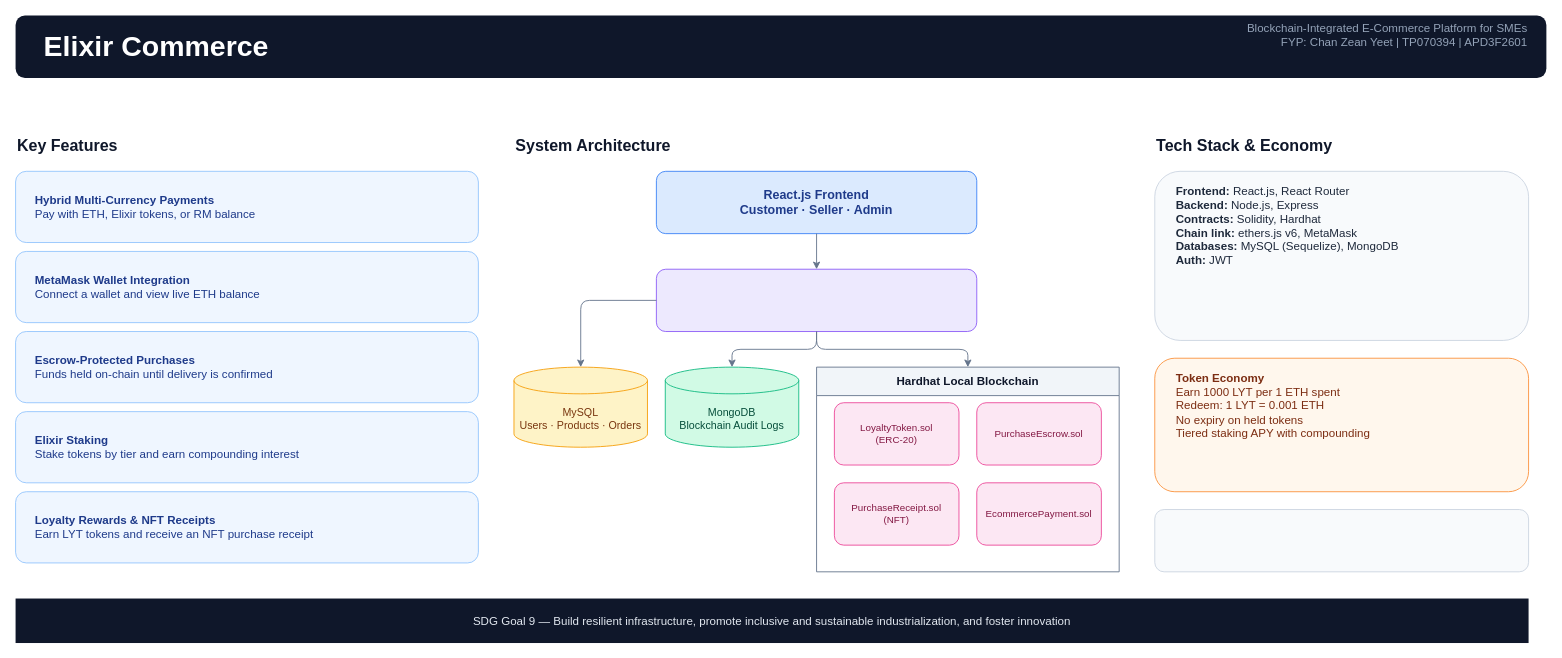
This 1562x658 diagram has some shape labels left out. The shapes that lost their labels are listed below. From the top down, each one's centre as x and y in pixels, then its label:
(x=816, y=300): Node.js / Express Backend REST API + Auth
(x=1341, y=540): Three Roles Customer · Seller · Admin — each with a dedicated dashboard
